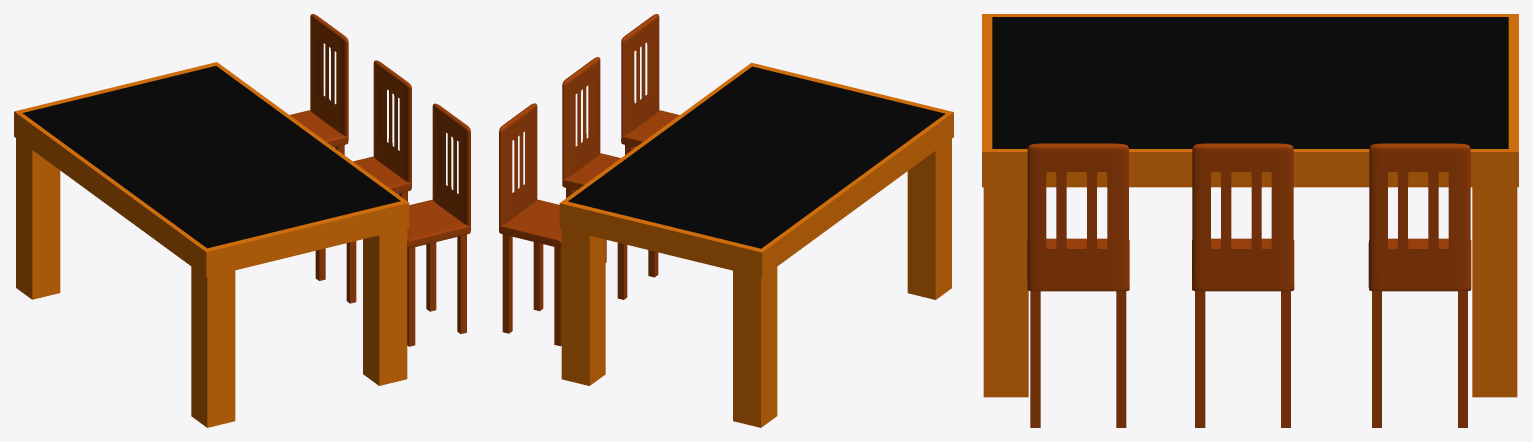
3 views of the same model, side by side, from view 1: azimuth 30°, elevation 25°; view 2: azimuth 150°, elevation 25°; view 3: azimuth 270°, elevation 25° (orthographic). The views are drawn at different scales.
Visible parts, largest first — view 1: Куб, Куб.001, Куб.010, Куб.004, Куб.007, Куб.009, Куб.008, Куб.006, Куб.002, Куб.005; view 2: Куб, Куб.001, Куб.010, Куб.004, Куб.007, Куб.003, Куб.002, Куб.006, Куб.005, Куб.008; view 3: Куб, Куб.001, Куб.007, Куб.004, Куб.010, Куб.009, Куб.006, Куб.003, Куб.002, Куб.005, Куб.008.
Part boxes in pixels (x1,y1,x2,y2): Куб: (14,62,409,277); Куб.001: (16,138,407,427); Куб.010: (432,103,470,230); Куб.004: (310,14,348,140); Куб.007: (373,60,411,187); Куб.009: (407,234,466,346); Куб.008: (407,199,470,247); Куб.006: (315,191,407,303); Куб.002: (290,110,348,147); Куб.005: (353,156,411,193); Куб: (559,62,953,277); Куб.001: (561,139,951,427); Куб.010: (621,14,659,136); Куб.004: (499,103,537,226); Куб.007: (562,57,600,179); Куб.003: (502,234,561,346); Куб.002: (499,199,561,247); Куб.006: (566,188,658,299); Куб.005: (562,153,620,190); Куб.008: (621,110,679,147); Куб: (982,14,1518,187); Куб.001: (983,187,1517,397); Куб.007: (1192,143,1293,291); Куб.004: (1369,143,1470,291); Куб.010: (1027,143,1128,291); Куб.009: (1030,291,1126,427); Куб.006: (1195,291,1290,427); Куб.003: (1372,291,1467,427); Куб.002: (1368,238,1471,291); Куб.005: (1192,238,1294,291); Куб.008: (1027,238,1129,291).
Size of what is drawn, in the model's own units: 943 by 701 by 1112.
